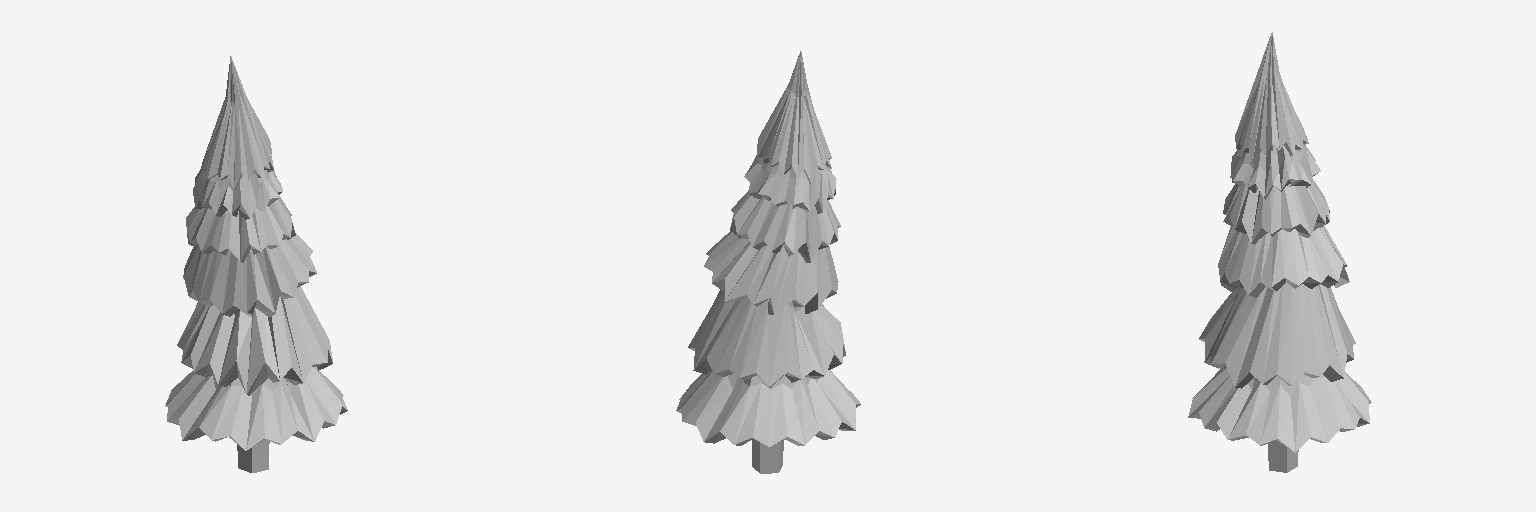
Rendered from Pine_05.obj.
The picture shows the model from 3 angles: view 1: azimuth 30°, elevation 25°; view 2: azimuth 150°, elevation 25°; view 3: azimuth 270°, elevation 25°; orthographic projection.
Parts seen in each view (by area): view 1: Cylinder.001, Cylinder; view 2: Cylinder.001, Cylinder; view 3: Cylinder.001, Cylinder.
Boxes of the visible parts, <box> form: Cylinder.001: <box>165,56,347,450</box>; Cylinder: <box>237,440,269,472</box>; Cylinder.001: <box>676,51,860,447</box>; Cylinder: <box>752,439,783,473</box>; Cylinder.001: <box>1188,32,1371,452</box>; Cylinder: <box>1268,440,1298,472</box>.
Bounding box in the file's own units: 2.85 × 7.1 × 2.8.